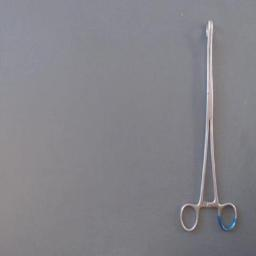Sponge Forceps: (176, 16, 240, 236)
